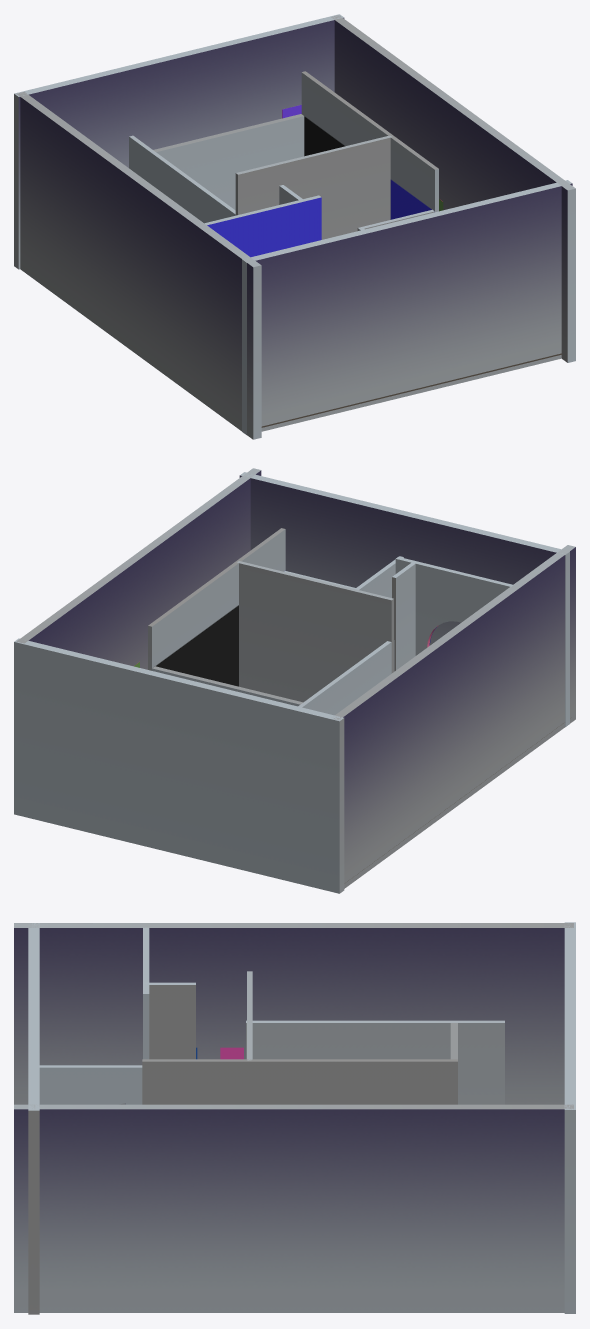
The model's file is MarkGallery_01.glb.
The picture shows the model from 3 angles, top to bottom: view 1: azimuth 30°, elevation 25°; view 2: azimuth 150°, elevation 25°; view 3: azimuth 270°, elevation 25°; orthographic projection. The views are drawn at different scales.
Parts seen in each view (by area): view 1: Plane; view 2: Plane; view 3: Plane.
Part boxes in pixels (x1,y1,x2,y2): Plane: [14, 14, 575, 439]; Plane: [14, 468, 575, 893]; Plane: [14, 922, 575, 1314].
Bounding box in the file's own units: 7.93 × 4.25 × 9.99.
1 material, 1 textured.
